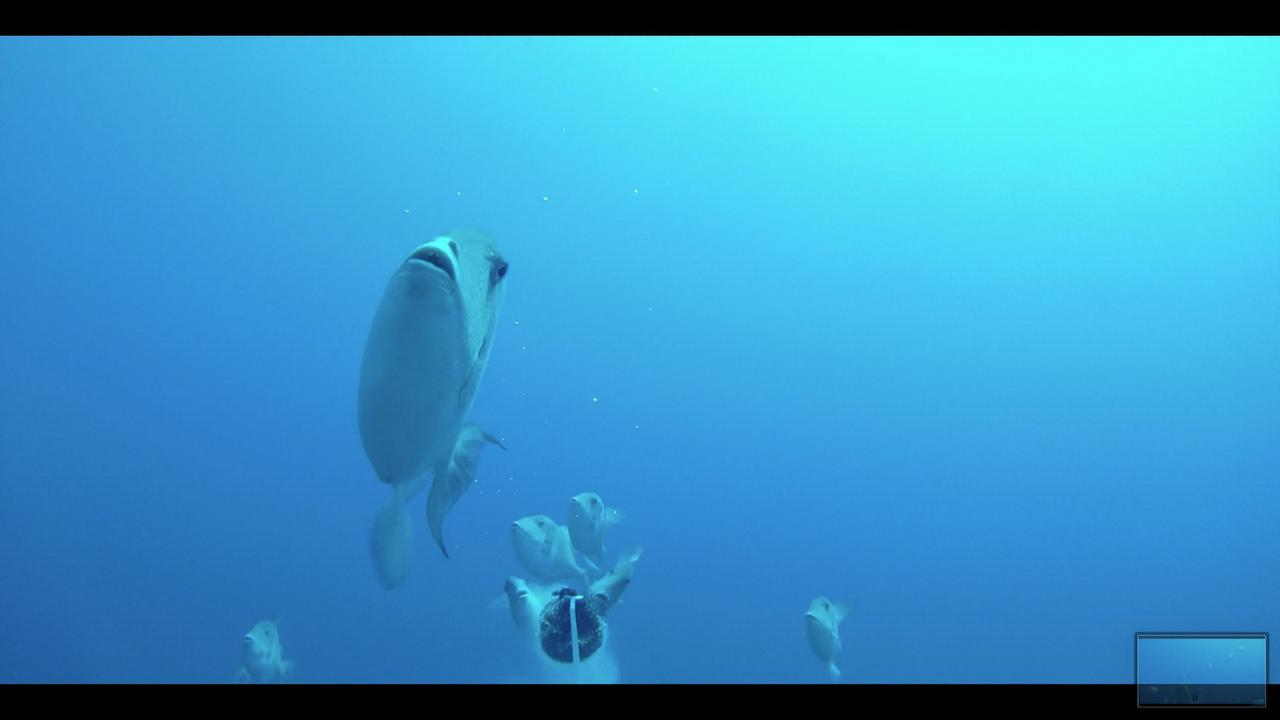balistes: (353, 222, 535, 562), (492, 507, 592, 596), (209, 606, 314, 683), (797, 584, 874, 681), (562, 483, 628, 567)
